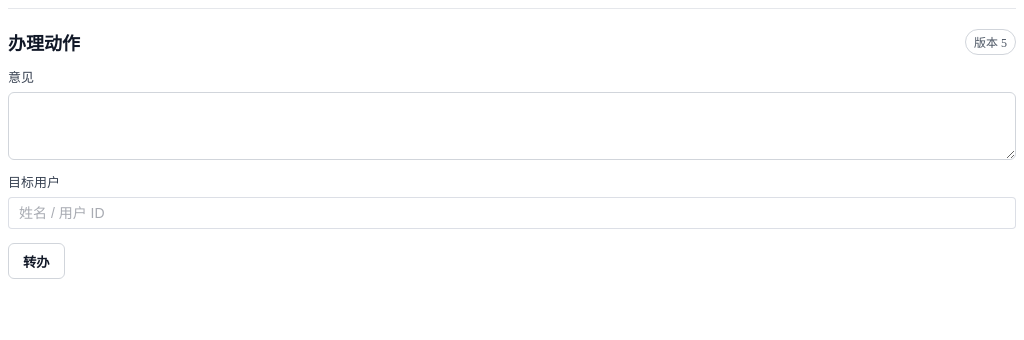
Test: TaskActionPanel › clears a selected target user when its text is edited
Type "operation" into the field with test id "target-user-search". click: (512, 213)
box: [19,198,1005,228]
Wait 300 ms
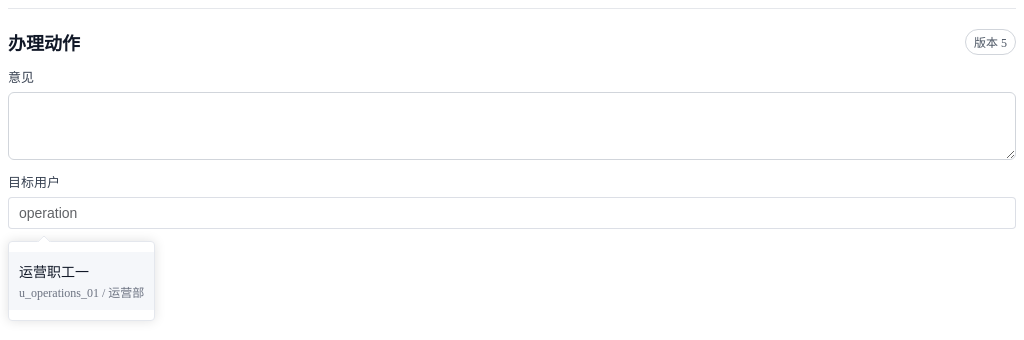
Result: the element with test id "target-user-option-u_operations_01" is shown at [19,261,144,301]
Click the option with test id "target-user-option-u_operations_01". click: (82, 281)
box: [9,252,154,310]
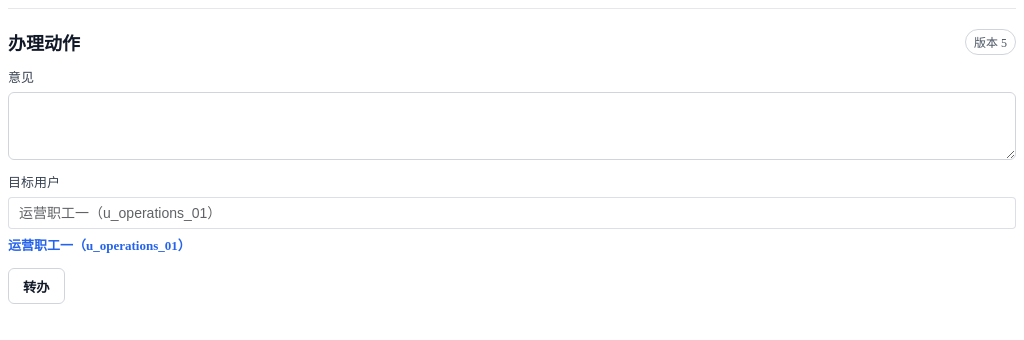
Result: the text "运营职工一（u_operations_01）" is shown at [8,238,191,253]
Replace the text in the field with test id "target-user-search" with "another user". click: (512, 213)
box: [19,198,1005,228]
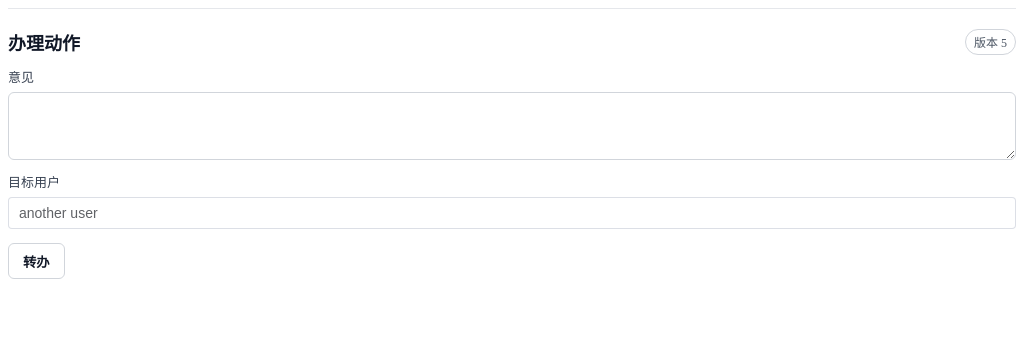
Click the button with test id "action-transfer". click: (36, 261)
box: [8,243,65,279]
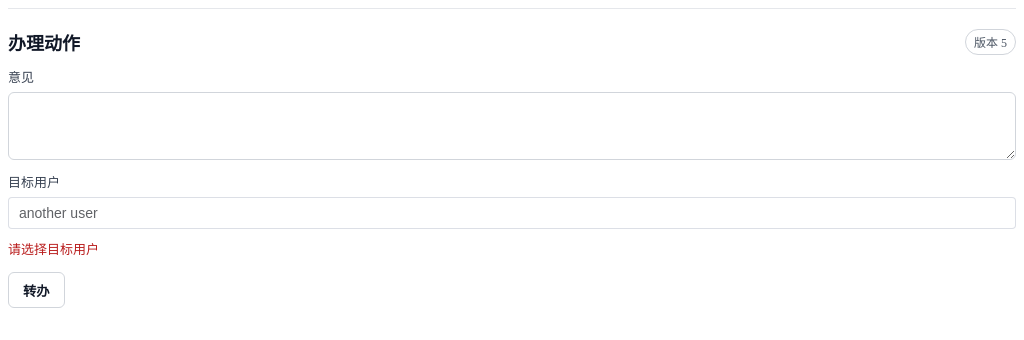
Result: the text "请选择目标用户" is shown at [8,242,99,257]
